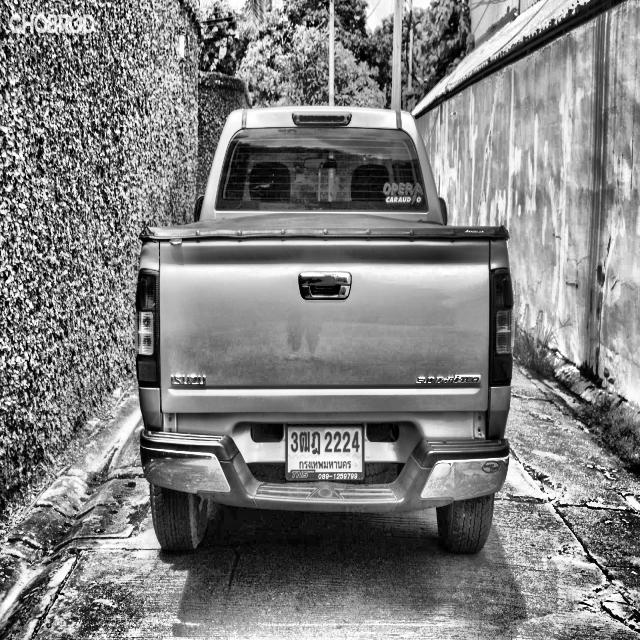license-plate: (286, 423, 364, 484)
